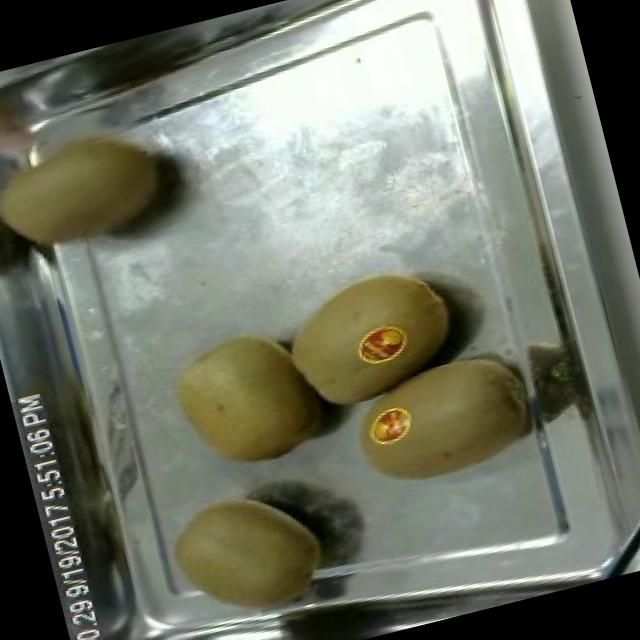Fruit: (0, 65, 209, 287), (266, 244, 476, 424), (337, 332, 542, 506), (152, 466, 344, 636), (156, 310, 332, 484)
